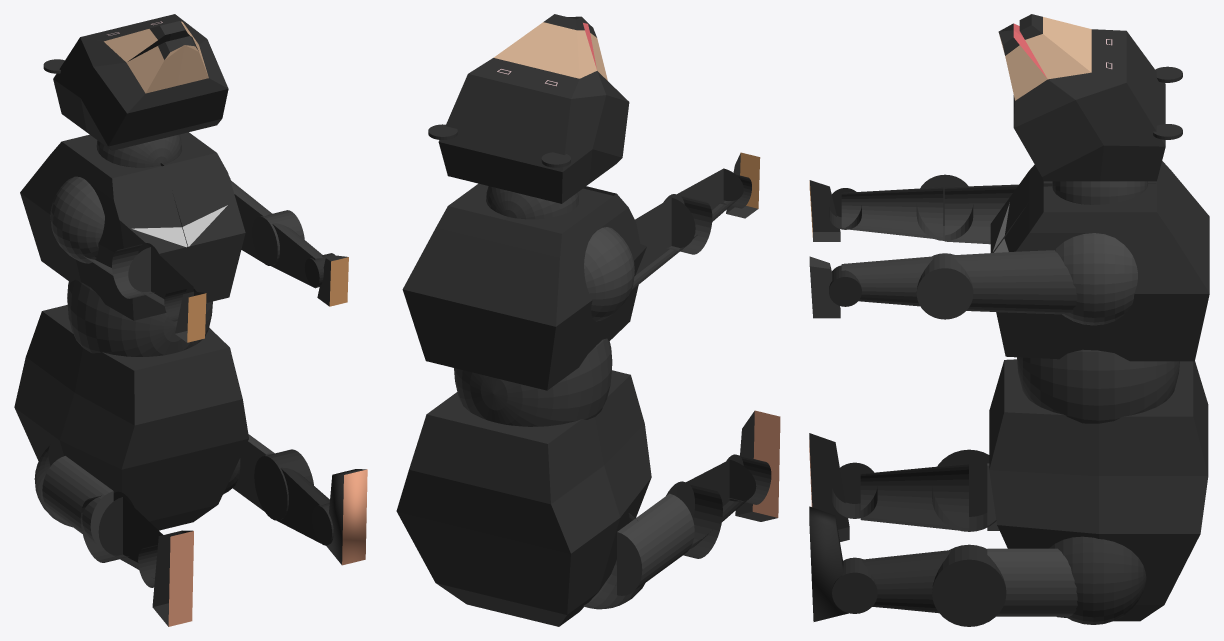
File: taiwan bear yup.glb
3 renders of one model, left to right at view 1: azimuth 30°, elevation 25°; view 2: azimuth 150°, elevation 25°; view 3: azimuth 270°, elevation 25°, orthographic. The views are drawn at different scales.
Visible parts, largest first — view 1: TaiwanBear, Link_UpperBody_C, Head_C, RJoint_Torso_XYZ_C, Link_Back_Upper_R, RJoint_Front_Upper_XYZ_R, Link_Back_Foot_R, Link_Back_Foot_L, Link_Back_Lower_R, RJoint_Back_Lower_Z_L, Link_Front_Lower_R, Link_Back_Lower_L (+15 smaller); view 2: TaiwanBear, Link_UpperBody_C, Head_C, RJoint_Torso_XYZ_C, Link_Back_Upper_R, RJoint_Front_Upper_XYZ_R, Link_Front_Upper_R, Link_Back_Foot_R, Link_Back_Lower_R, RJoint_Back_Lower_Z_R, RJoint_Head_XYZ_C, Link_Front_Lower_R (+4 smaller); view 3: TaiwanBear, Link_UpperBody_C, Head_C, RJoint_Torso_XYZ_C, Link_Front_Upper_L, Link_Back_Lower_R, RJoint_Back_Upper_XYZ_L, RJoint_Front_Upper_XYZ_L, Link_Back_Upper_L, RJoint_Back_Lower_Z_L, Link_Front_Lower_R, Link_Back_Lower_L (+14 smaller).
Part boxes in pixels (bbox=[...]): TaiwanBear: bbox=[14, 305, 248, 530]; Link_UpperBody_C: bbox=[20, 132, 245, 320]; Head_C: bbox=[43, 14, 228, 150]; RJoint_Torso_XYZ_C: bbox=[67, 280, 212, 356]; Link_Back_Upper_R: bbox=[42, 456, 113, 547]; RJoint_Front_Upper_XYZ_R: bbox=[50, 176, 104, 263]; Link_Back_Foot_R: bbox=[152, 530, 193, 626]; Link_Back_Foot_L: bbox=[326, 469, 367, 565]; Link_Back_Lower_R: bbox=[98, 497, 162, 578]; RJoint_Back_Lower_Z_L: bbox=[254, 449, 313, 520]; Link_Front_Lower_R: bbox=[128, 247, 193, 313]; Link_Back_Lower_L: bbox=[277, 467, 329, 543]; TaiwanBear: bbox=[396, 370, 651, 626]; Link_UpperBody_C: bbox=[402, 183, 646, 390]; Head_C: bbox=[428, 14, 629, 203]; RJoint_Torso_XYZ_C: bbox=[454, 338, 612, 426]; Link_Back_Upper_R: bbox=[617, 493, 694, 595]; RJoint_Front_Upper_XYZ_R: bbox=[584, 227, 634, 321]; Link_Front_Upper_R: bbox=[631, 197, 695, 290]; Link_Back_Foot_R: bbox=[735, 410, 780, 521]; Link_Back_Lower_R: bbox=[677, 459, 756, 548]; RJoint_Back_Lower_Z_R: bbox=[666, 481, 722, 558]; RJoint_Head_XYZ_C: bbox=[486, 186, 578, 219]; Link_Front_Lower_R: bbox=[672, 168, 743, 238]; TaiwanBear: bbox=[989, 359, 1208, 621]; Link_UpperBody_C: bbox=[990, 161, 1209, 361]; Head_C: bbox=[998, 14, 1182, 181]; RJoint_Torso_XYZ_C: bbox=[1017, 349, 1179, 423]; Link_Front_Upper_L: bbox=[952, 250, 1077, 314]; Link_Back_Lower_R: bbox=[860, 463, 968, 530]; RJoint_Back_Upper_XYZ_L: bbox=[1049, 536, 1146, 624]; RJoint_Front_Upper_XYZ_L: bbox=[1055, 233, 1137, 325]; Link_Back_Upper_L: bbox=[987, 548, 1077, 616]; RJoint_Back_Lower_Z_L: bbox=[932, 544, 1006, 626]; Link_Front_Lower_R: bbox=[841, 187, 943, 239]; Link_Back_Lower_L: bbox=[862, 550, 950, 613].
Bounding box in the file's own units: 1.45 × 3.54 × 2.22.
